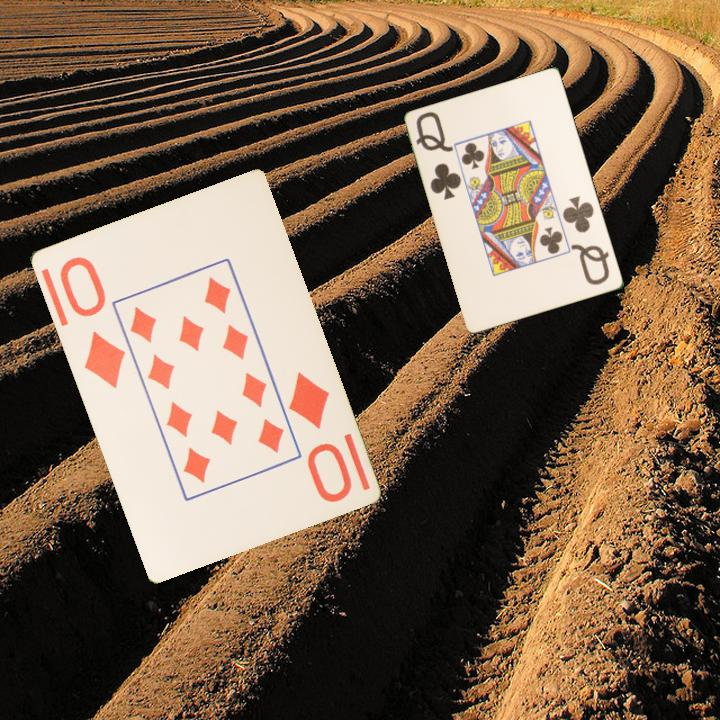10d: (55, 252, 128, 392), (284, 368, 355, 506)
Qc: (559, 192, 613, 288), (413, 108, 465, 203)
